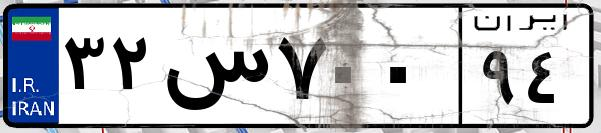0: (385, 28, 445, 110), (330, 28, 385, 110)
2: (110, 28, 158, 98)
3: (57, 26, 110, 100)
4: (525, 38, 570, 115)
7: (270, 28, 330, 110)
9: (475, 38, 525, 113)
س: (158, 20, 270, 120)
